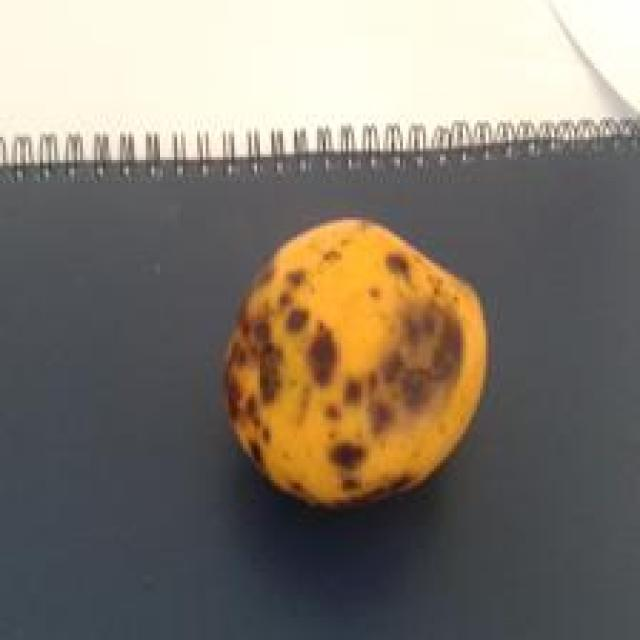black spot: (219, 208, 496, 508)
